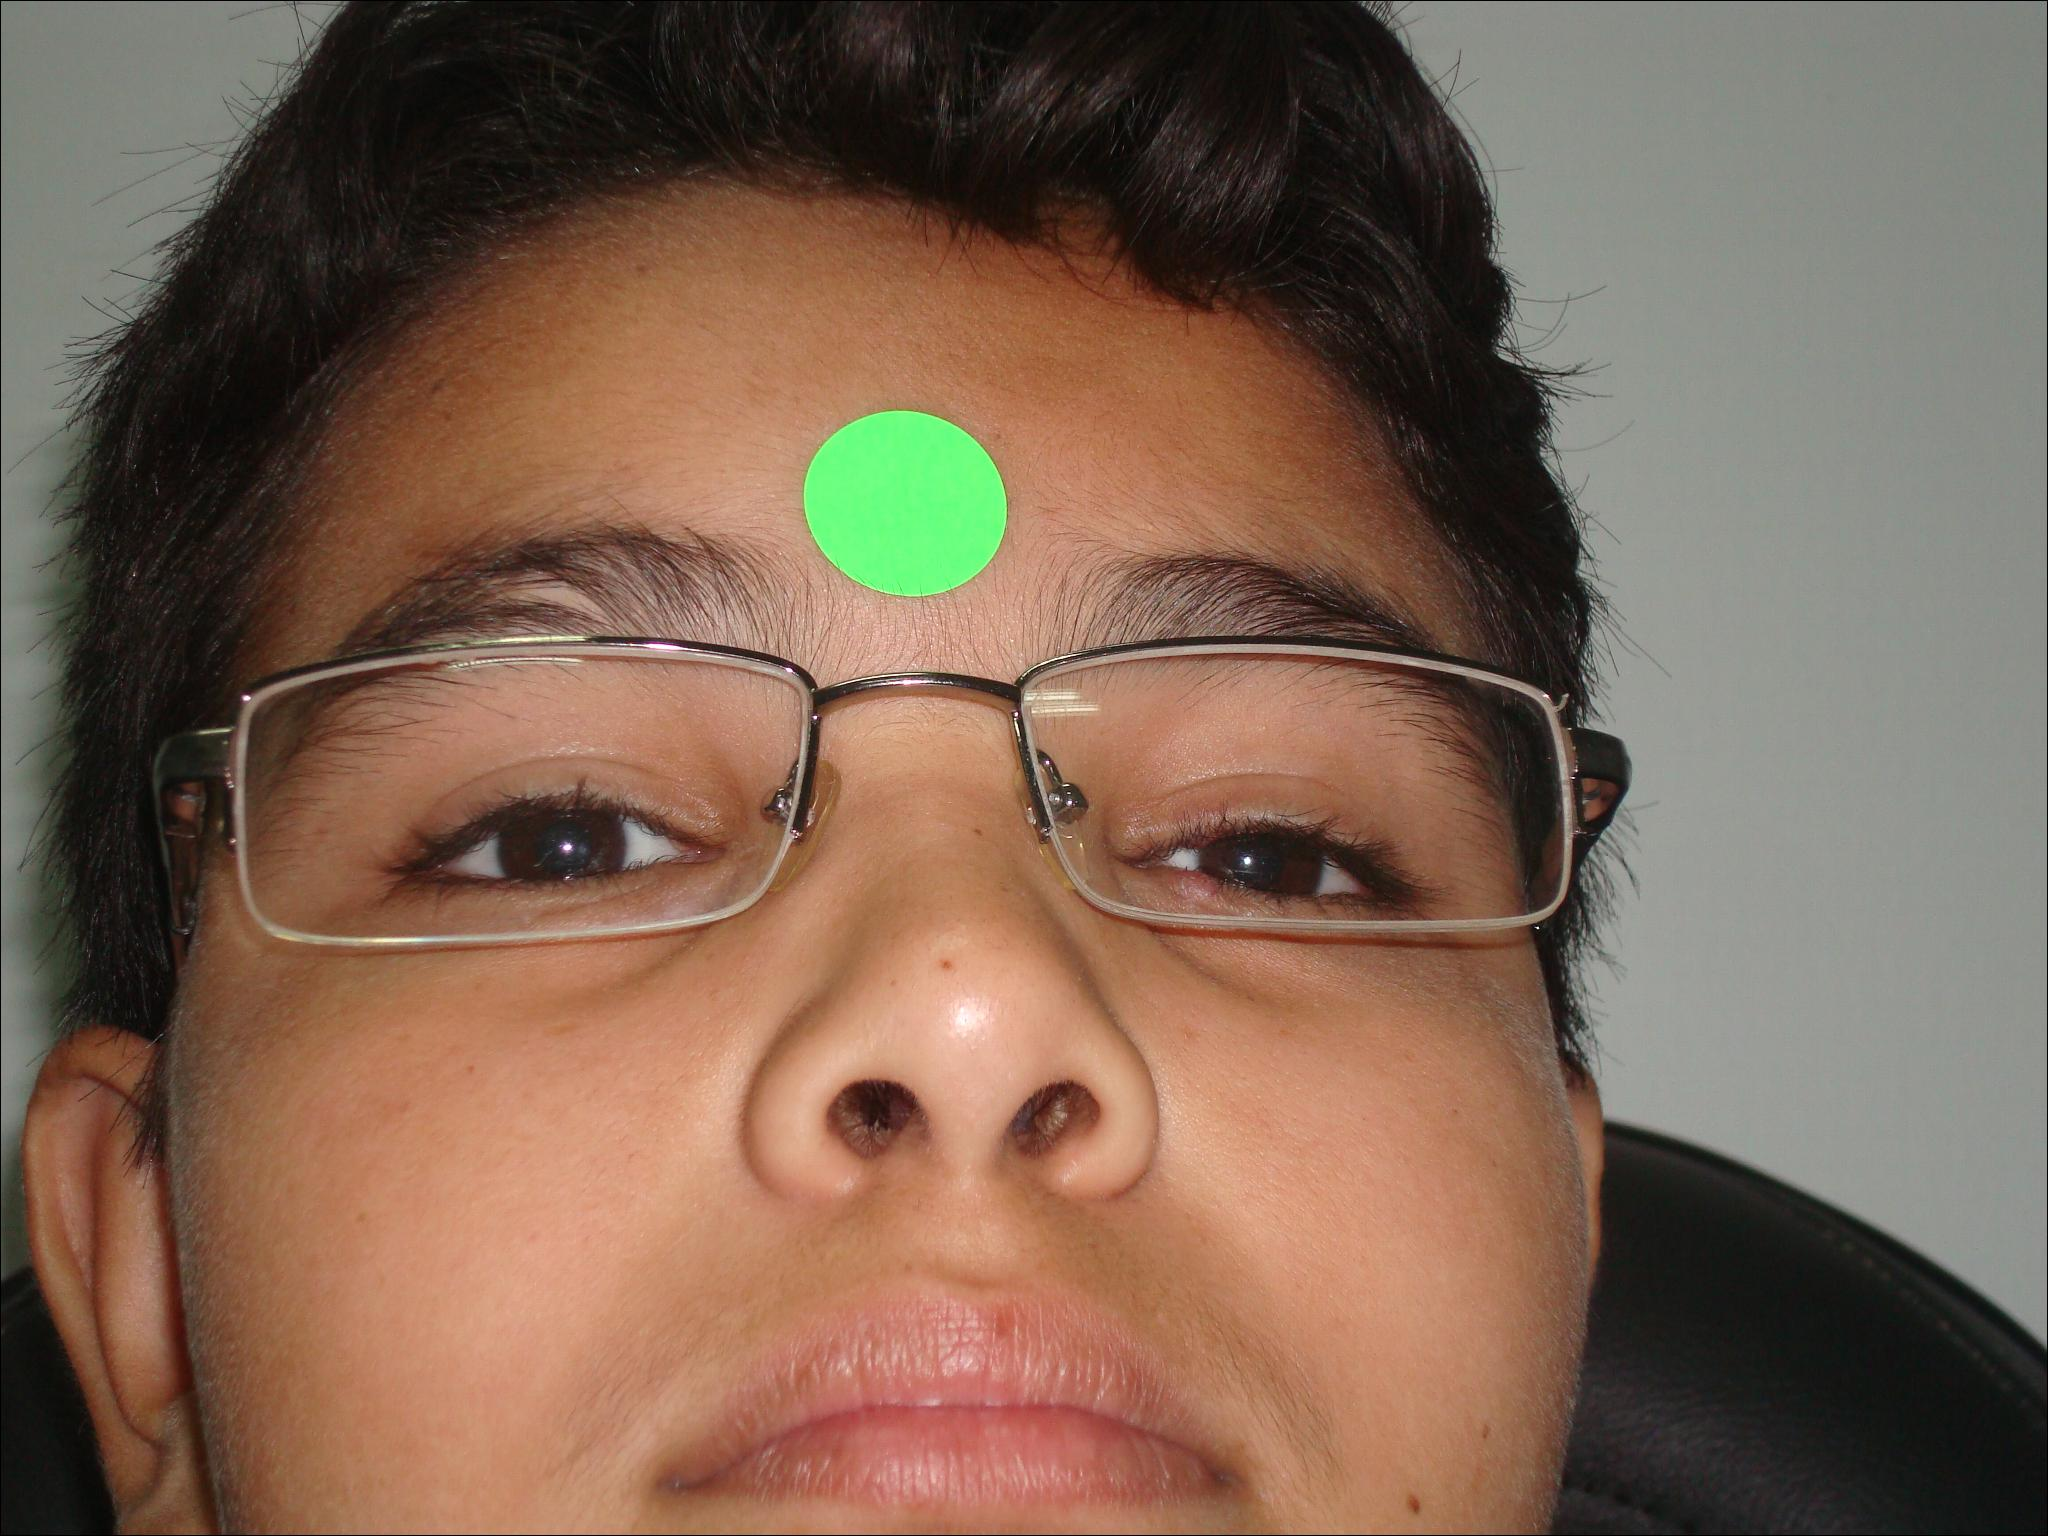flash: (1232, 849, 1263, 871), (556, 837, 577, 858)
limbo: (500, 791, 629, 902), (1192, 815, 1314, 912)
